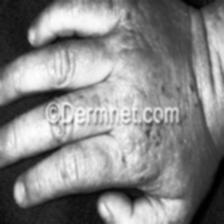Non-Cancerous Skin Condition: (121, 126, 165, 180), (60, 152, 88, 190), (116, 0, 140, 21)
